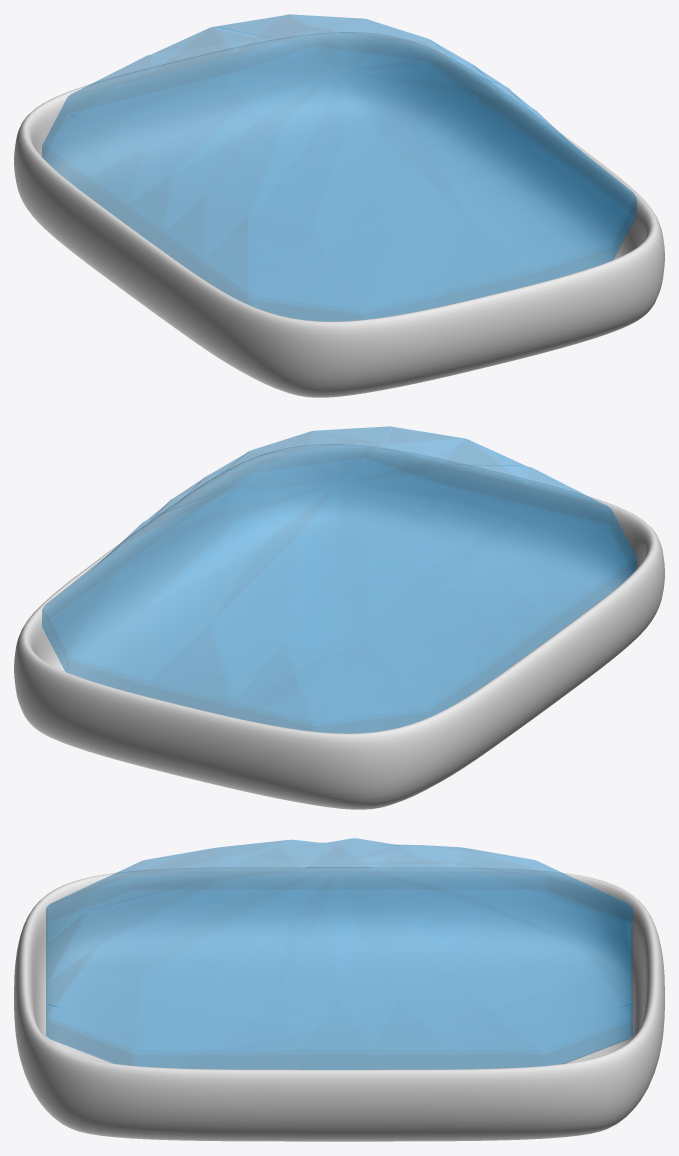
The model's file is Square Gem.glb.
3 renders of one model, top to bottom at view 1: azimuth 30°, elevation 25°; view 2: azimuth 150°, elevation 25°; view 3: azimuth 270°, elevation 25°, orthographic.
Parts seen in each view (by area): view 1: Gem_Rect|Gem_Rect_Mount.obj|Dupli|1_Metal_Rect_0, Gem_Rect|Gem_Rect.obj|Dupli|_Gem_Rect_0; view 2: Gem_Rect|Gem_Rect_Mount.obj|Dupli|1_Metal_Rect_0, Gem_Rect|Gem_Rect.obj|Dupli|_Gem_Rect_0; view 3: Gem_Rect|Gem_Rect_Mount.obj|Dupli|1_Metal_Rect_0, Gem_Rect|Gem_Rect.obj|Dupli|_Gem_Rect_0.
Part boxes in pixels (bbox=[...]): Gem_Rect|Gem_Rect_Mount.obj|Dupli|1_Metal_Rect_0: bbox=[14, 32, 664, 397]; Gem_Rect|Gem_Rect.obj|Dupli|_Gem_Rect_0: bbox=[42, 14, 636, 321]; Gem_Rect|Gem_Rect_Mount.obj|Dupli|1_Metal_Rect_0: bbox=[14, 444, 664, 809]; Gem_Rect|Gem_Rect.obj|Dupli|_Gem_Rect_0: bbox=[42, 426, 636, 733]; Gem_Rect|Gem_Rect_Mount.obj|Dupli|1_Metal_Rect_0: bbox=[14, 867, 664, 1141]; Gem_Rect|Gem_Rect.obj|Dupli|_Gem_Rect_0: bbox=[46, 838, 632, 1069].
Size of the model in its own units: 1.41 by 0.6132 by 1.83.
